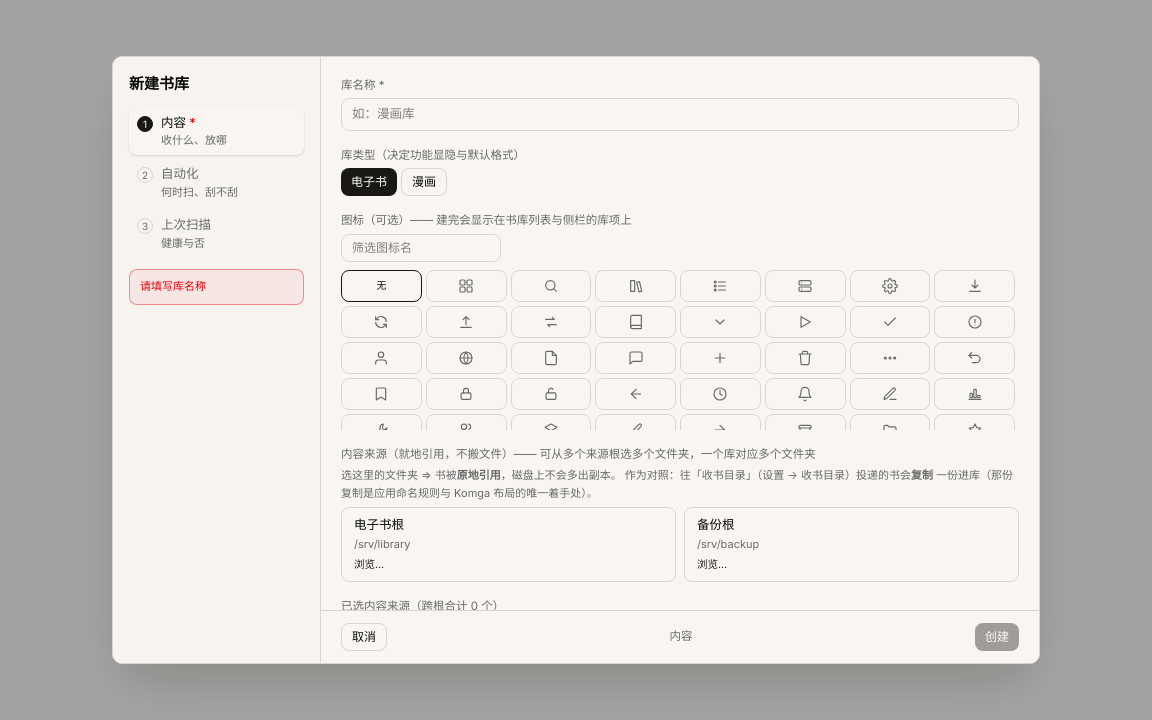
Scenario: 向导 · 多来源根下钻与多选（第 41 期） › 点「添加此文件夹」⇒ 已选出现该绝对路径（跨根合法）
Type "某库" into the field with test id "wizard-name" at (680, 115), box [341, 98, 1019, 131]
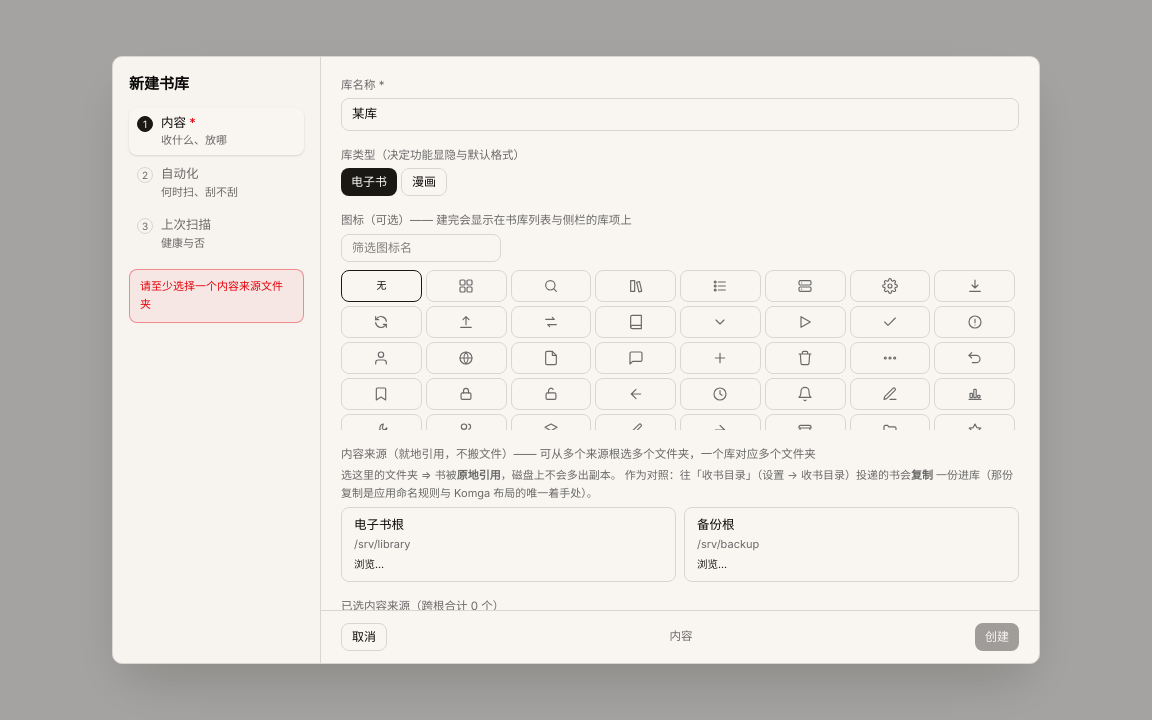
// 选备份根（index 1）的顶层
Click the button with test id "wizard-root-card" at (716, 524), box [684, 506, 1019, 582]
(page scrolled)
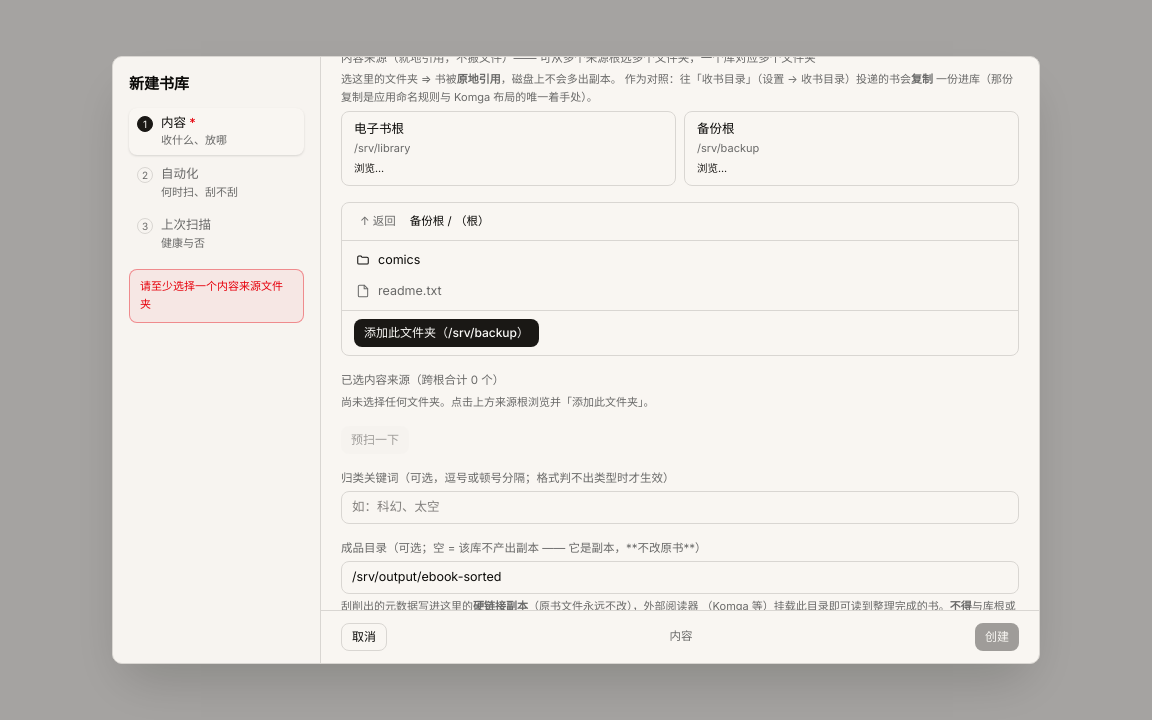
Click the button with test id "wizard-pick-folder" at (446, 333), box [354, 319, 539, 347]
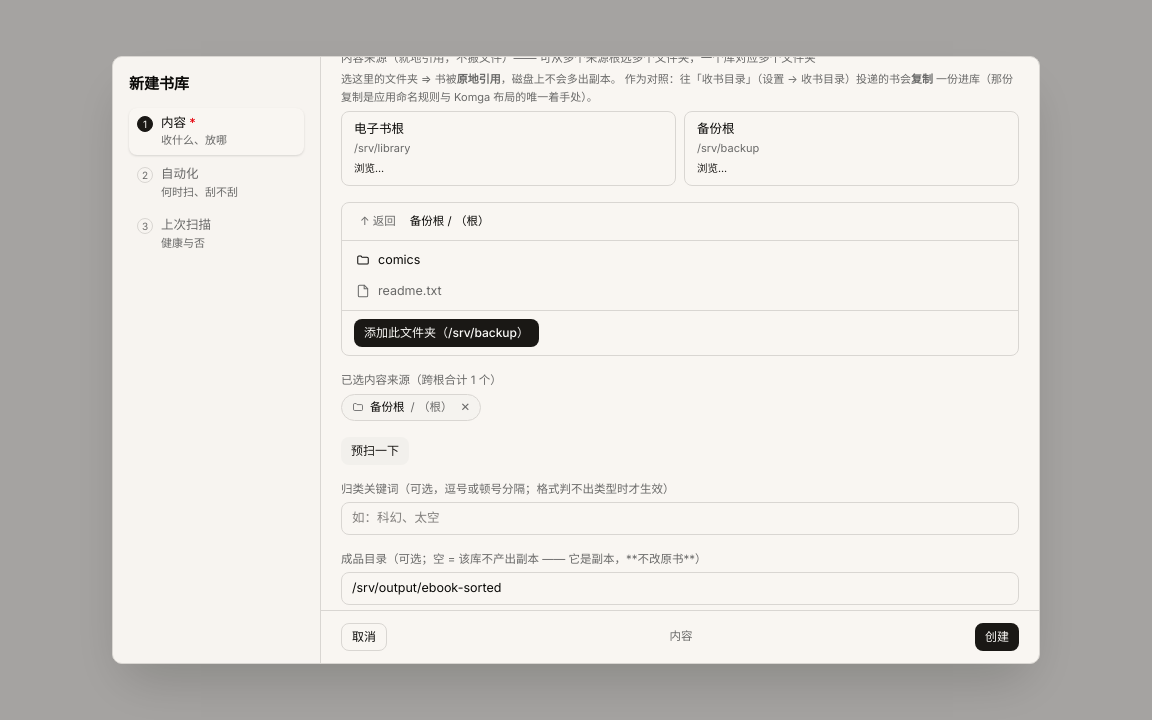
Now the number of elements with test id "wizard-selected-item" is 1, box [341, 394, 481, 421]
Now the element with test id "wizard-selected-item" shows "备份根", box [370, 400, 404, 414]
